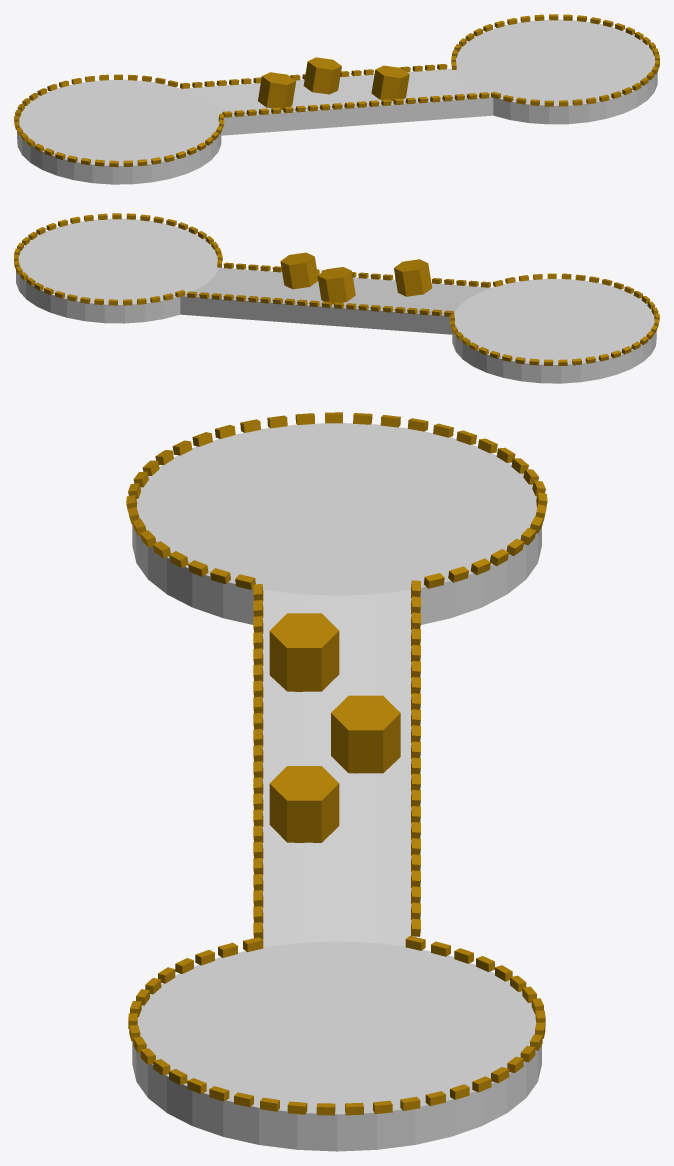
File: level1.glb
3 renders of one model, top to bottom at view 1: azimuth 30°, elevation 25°; view 2: azimuth 150°, elevation 25°; view 3: azimuth 270°, elevation 25°, orthographic. The views are drawn at different scales.
Visible parts, largest first — view 1: ground.002-col, ground.001-col, bridge.001-col, Cube-col, obs.002 -col, obs.003 -col, obs.001 -col; view 2: ground.002-col, ground.001-col, bridge.001-col, Cube-col, obs.003 -col, obs.002 -col, obs.001 -col; view 3: ground.001-col, ground.002-col, bridge.001-col, Cube-col, obs.003 -col, obs.002 -col, obs.001 -col.
Part boxes in pixels (x1,y1,x2,y2): ground.002-col: (17,79,221,184); ground.001-col: (455,19,657,124); bridge.001-col: (183,68,493,135); Cube-col: (14,14,659,167); obs.002 -col: (303,57,341,94); obs.003 -col: (258,72,296,109); obs.001 -col: (371,65,409,101); ground.002-col: (452,278,656,383); ground.001-col: (16,218,218,323); bridge.001-col: (180,267,491,334); Cube-col: (14,213,659,365); obs.003 -col: (394,259,432,296); obs.002 -col: (317,267,355,304); obs.001 -col: (280,252,318,289); ground.001-col: (132,941,541,1151); ground.002-col: (132,423,541,624); bridge.001-col: (262,589,414,947); Cube-col: (126,412,547,1115); obs.003 -col: (269,613,339,691); obs.002 -col: (331,695,400,773); obs.001 -col: (269,766,339,842).
Size of the model in its own units: 69.73 by 8.69 by 20.58.
